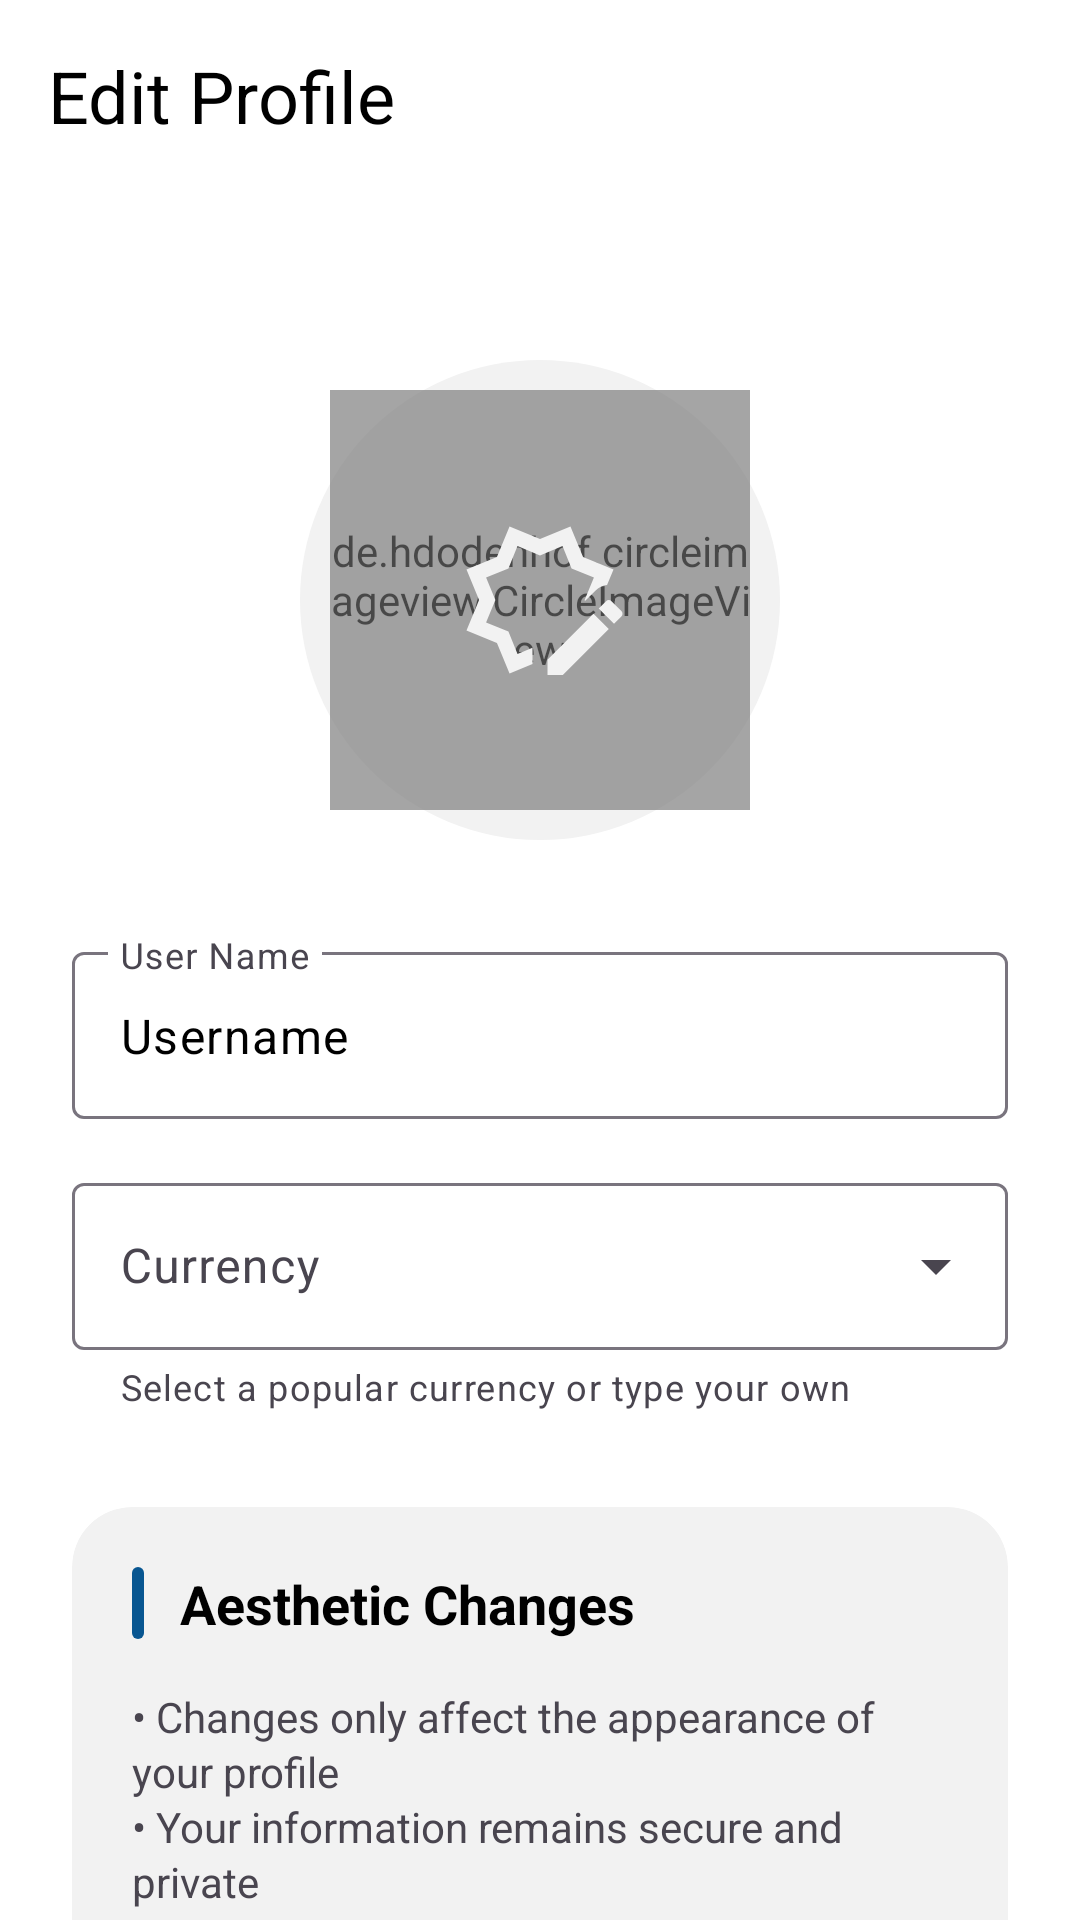

Screen size 1080px x 1920px. Icon name, then its center in pixels as (x=x, y=y):
Change Profile Picture: (x=540, y=601)
